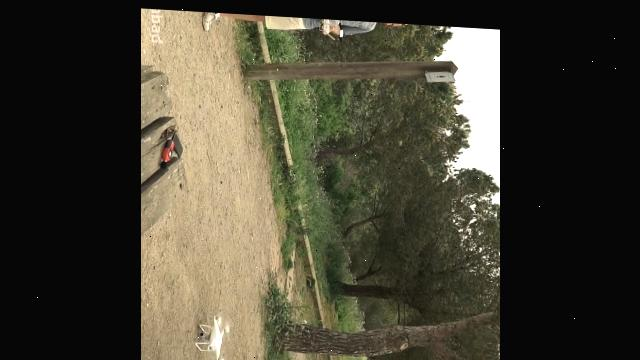drone: (190, 309, 234, 360)
